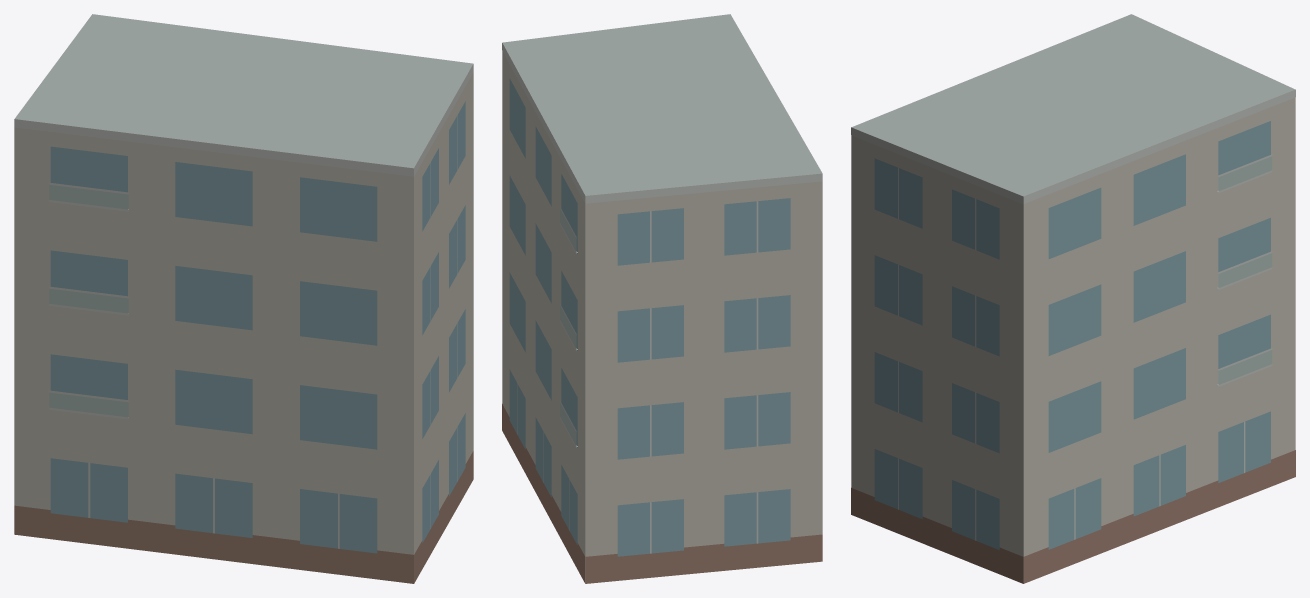
File: survey-upis-32493686.glb
3 renders of one model, left to right at view 1: azimuth 30°, elevation 25°; view 2: azimuth 150°, elevation 25°; view 3: azimuth 270°, elevation 25°, orthographic. The views are drawn at different scales.
Visible parts, largest first — view 1: survey-upis-32493686.tmp; view 2: survey-upis-32493686.tmp; view 3: survey-upis-32493686.tmp.
Part boxes in pixels (left/top/right/bottom): survey-upis-32493686.tmp: left=14, top=14, right=473, bottom=583; survey-upis-32493686.tmp: left=502, top=14, right=822, bottom=583; survey-upis-32493686.tmp: left=851, top=14, right=1295, bottom=583.
Size of the model in its own units: 12.33 by 12.2 by 12.7.
